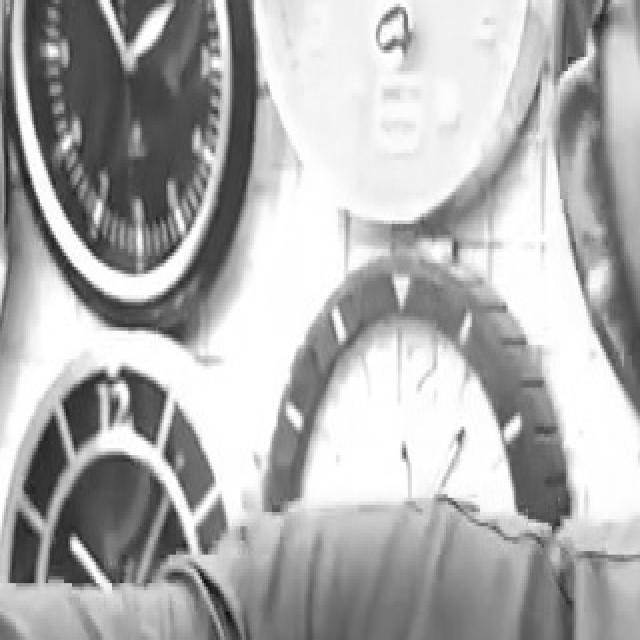wallclock: (260, 243, 570, 531), (6, 0, 256, 338), (248, 0, 544, 235), (0, 341, 236, 594), (102, 375, 132, 432)
